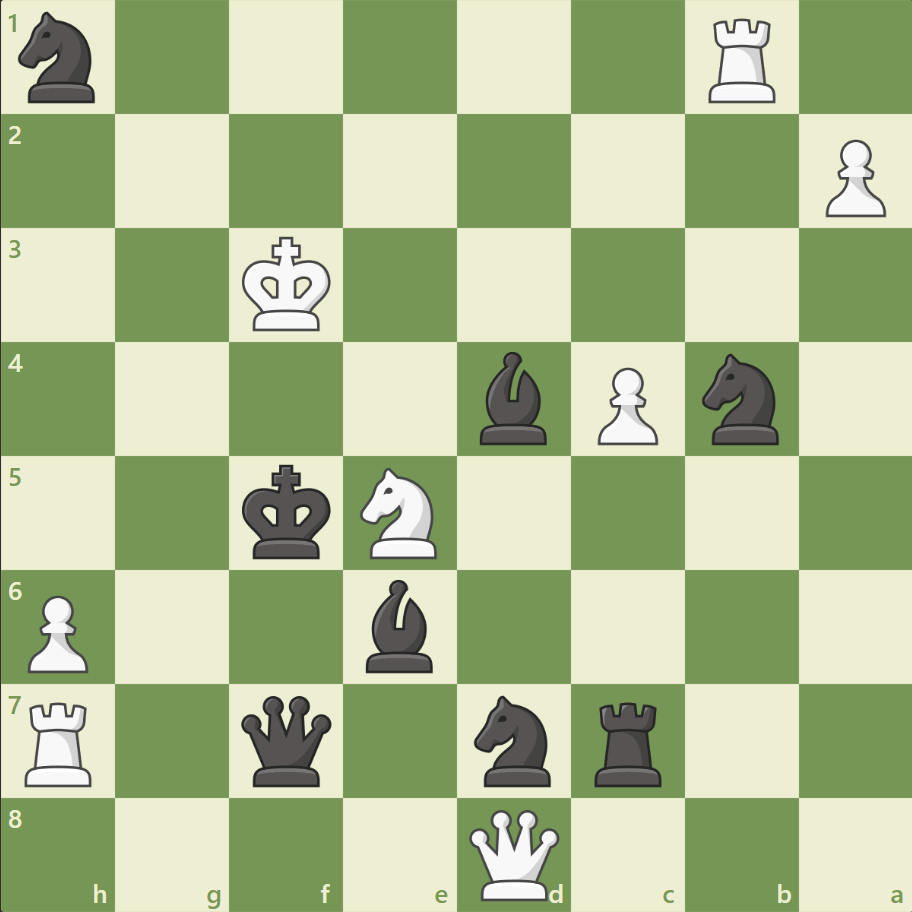K: (238, 231, 338, 339)
N: (351, 461, 449, 564)
P: (20, 586, 95, 677), (588, 359, 662, 450), (815, 132, 889, 223)
Q: (464, 804, 563, 903)
R: (19, 693, 102, 790), (700, 12, 783, 109)
b: (358, 574, 442, 676), (471, 347, 555, 449)
k: (238, 458, 338, 566)
n: (465, 688, 562, 791), (11, 7, 108, 110), (692, 348, 789, 450)
q: (237, 690, 336, 789)
r: (587, 693, 670, 790)
